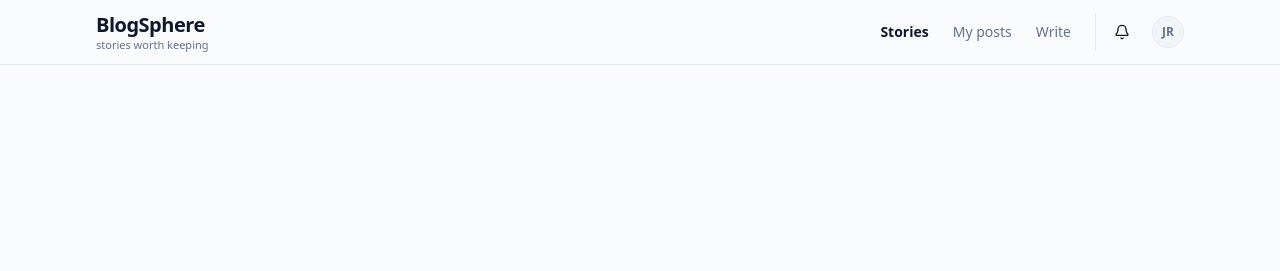
Test case: Header and Navigation › renders authenticated user navigation and dropdown items
Expected: the link "My posts" is shown, [953,22,1012,42]
Expected: the link "Write" is shown, [1036,22,1071,42]
Click the button with aria-label "User account menu".
click(1168, 32)  # box [1152,16,1184,48]
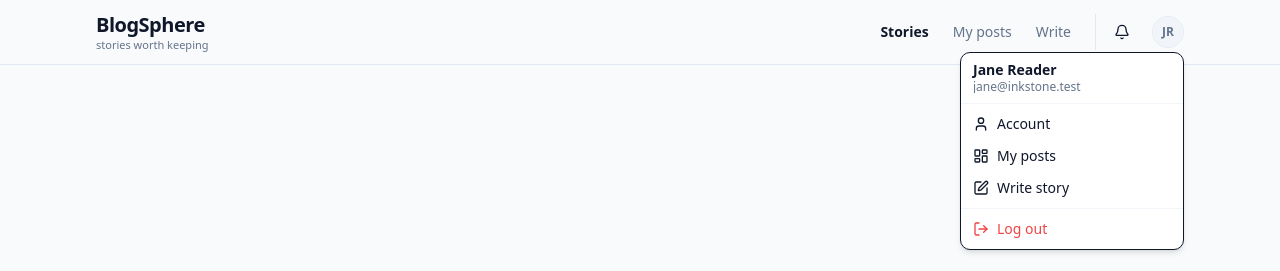
Expected: the text "Jane Reader" is shown, [973,60,1057,79]
Expected: the text "Account" is shown, [997,114,1050,134]
Expected: the text "Log out" is shown, [997,219,1047,239]
